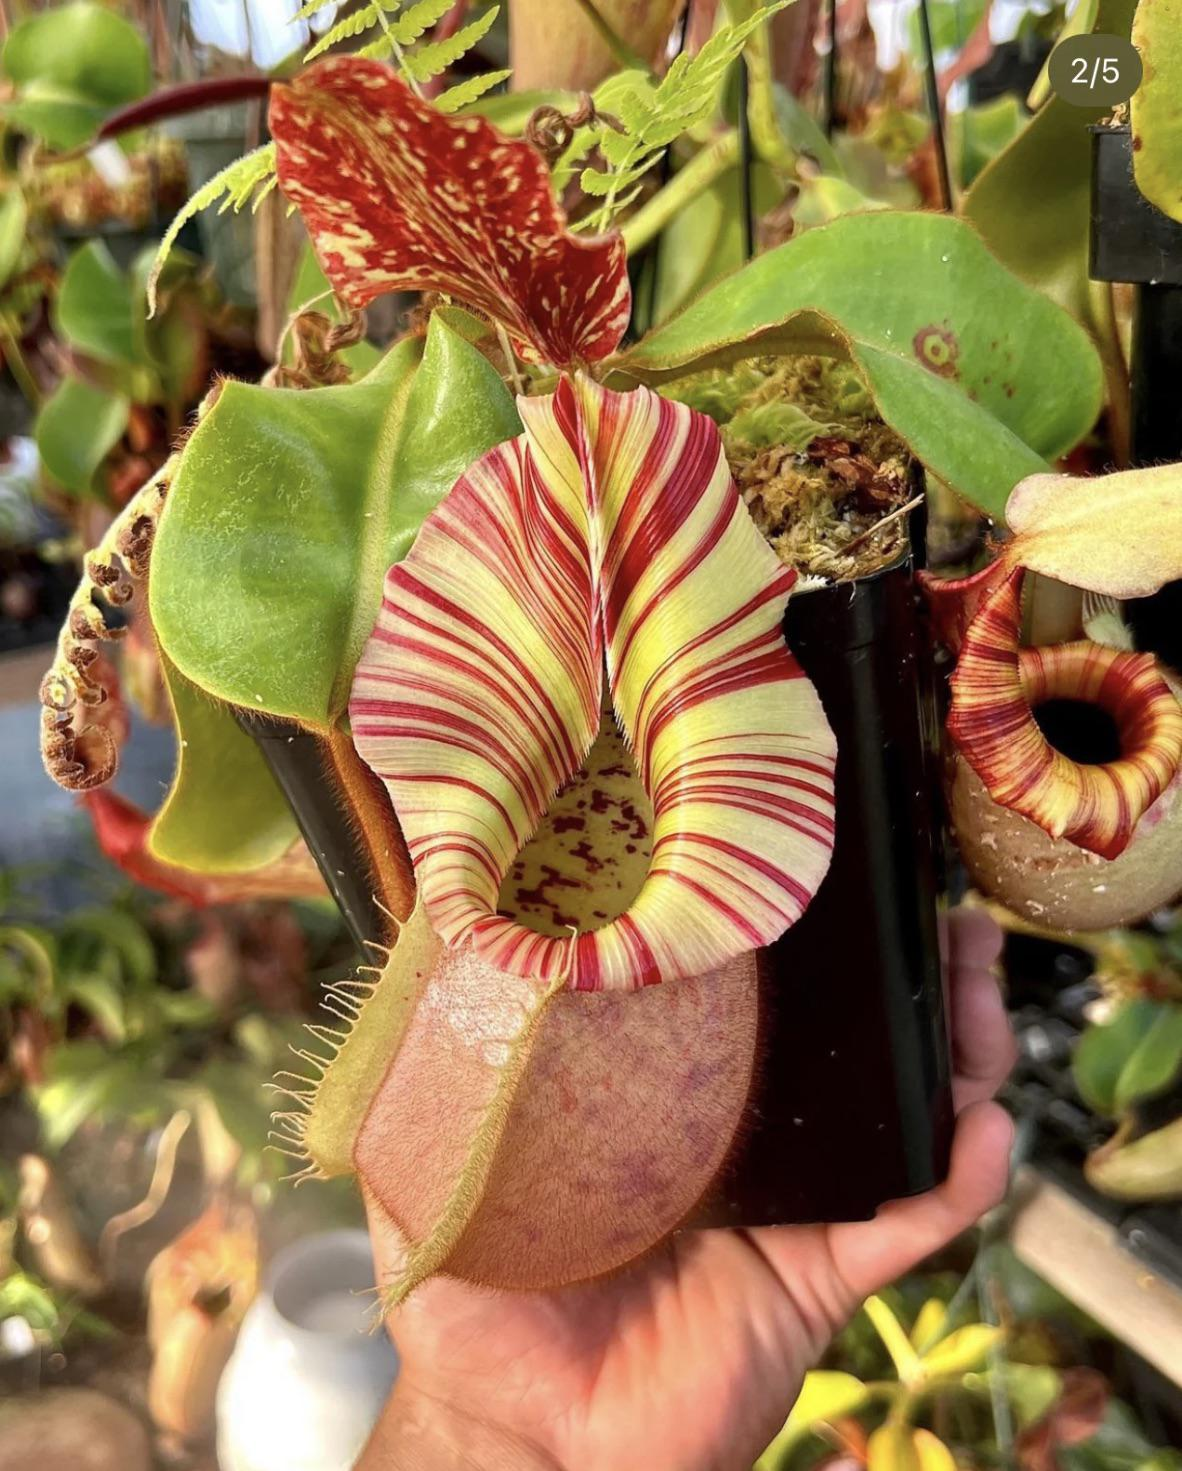veitchii: (160, 28, 895, 1343)
